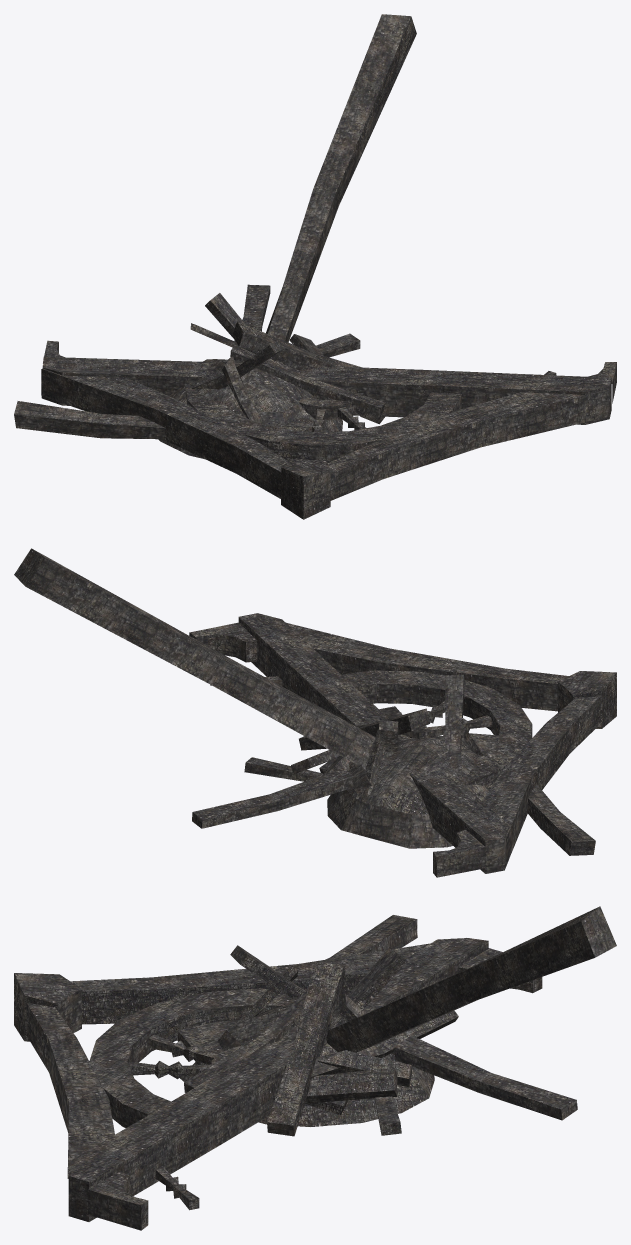
File: eso_gu11_BurntDebris4-transformed.glb
The picture shows the model from 3 angles, top to bottom: view 1: azimuth 30°, elevation 25°; view 2: azimuth 150°, elevation 25°; view 3: azimuth 270°, elevation 25°; orthographic projection. The views are drawn at different scales.
Parts seen in each view (by area): view 1: default; view 2: default; view 3: default.
Boxes of the visible parts, x1,y1,x2,y2 form: default: (14,14,616,519); default: (14,548,616,877); default: (14,906,616,1230).
Bounding box in the file's own units: 17.82 × 9.46 × 15.23.
Materials: 1 (1 with a texture image).
